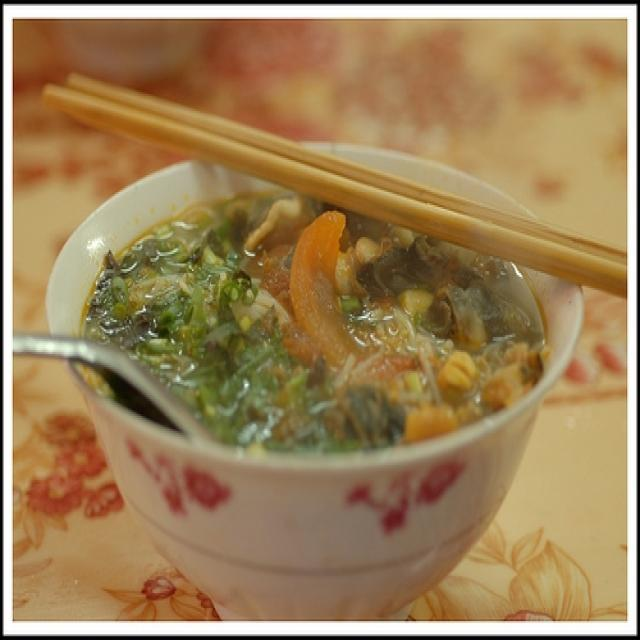面条主食: (13, 34, 617, 602)
